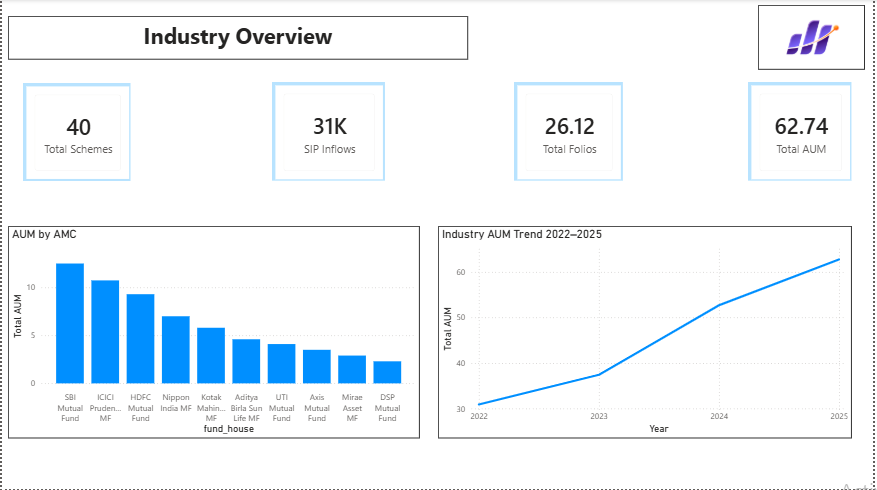

The dashboard page shown, as its layout file describes it:
{"tool":"powerbi","page":{"name":"Industry Overview","canvas":[1280,720],"ordinal":0},"visuals":[{"type":"cardVisual","fields":{"Data":["Processed.Total AUM"]},"box":[1096.5,121.3,152.4,145],"z":0},{"type":"cardVisual","fields":{"Data":["Processed.SIP Inflows"]},"box":[396.6,121.3,165.7,145],"z":1000},{"type":"cardVisual","fields":{"Data":["Processed.Total Folios"]},"box":[751.7,121.3,159.8,145],"z":2000},{"type":"cardVisual","fields":{"Data":["Processed.Total Schemes"]},"box":[31.1,122.8,158.3,143.5],"z":3000},{"type":"lineChart","title":"Industry AUM Trend 2022–2025","fields":{"Category":["DateTable.Year"],"Y":["Processed.Total AUM"]},"box":[640.7,332.9,608.2,312.2],"z":4000},{"type":"columnChart","title":"AUM by AMC","fields":{"Category":["clean_aum_by_fund_house.fund_house"],"Y":["Processed.Total AUM"]},"box":[8.9,332.9,605.2,312.2],"z":5000},{"type":"textbox","box":[9.4,24.3,675.6,63.6],"z":5001},{"type":"image","box":[1111.3,8.9,156.9,94.7],"z":5002}]}

Visuals, with their boxes in screenshot pixels (x1, y1, x2, y2), scaled from the page's 1280x720 canvas onto the 877x490 screenshot:
cardVisual - Processed.Total AUM: BBox(751, 83, 856, 181)
cardVisual - Processed.SIP Inflows: BBox(272, 83, 385, 181)
cardVisual - Processed.Total Folios: BBox(515, 83, 625, 181)
cardVisual - Processed.Total Schemes: BBox(21, 84, 130, 181)
"Industry AUM Trend 2022–2025" lineChart: BBox(439, 227, 856, 439)
"AUM by AMC" columnChart: BBox(6, 227, 421, 439)
textbox: BBox(6, 17, 469, 60)
image: BBox(761, 6, 869, 71)
